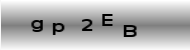2: (80, 18, 93, 32)
B: (122, 24, 137, 37)
E: (100, 13, 114, 27)
g: (30, 19, 44, 32)
p: (51, 22, 65, 36)
